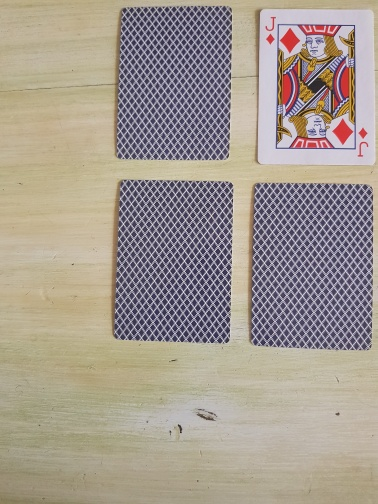jack: (255, 7, 378, 167)
